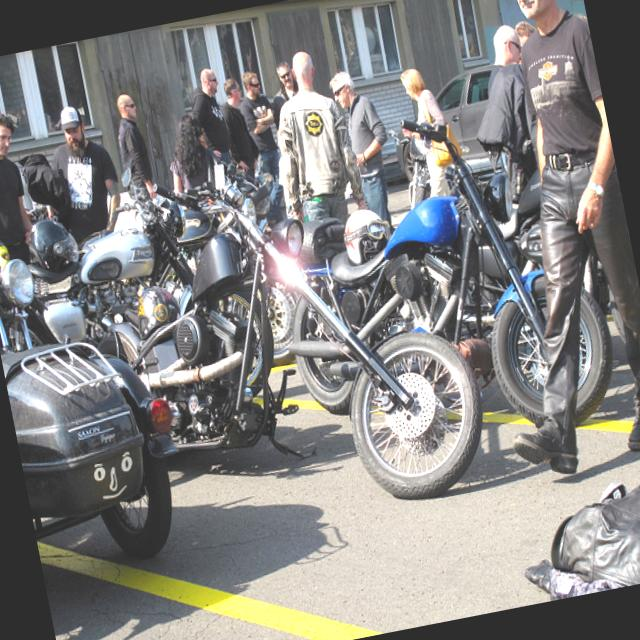Vehicle: (20, 128, 507, 572), (249, 77, 633, 480), (0, 322, 202, 576), (473, 123, 640, 396), (384, 63, 524, 202), (70, 181, 205, 288), (209, 137, 288, 225)
